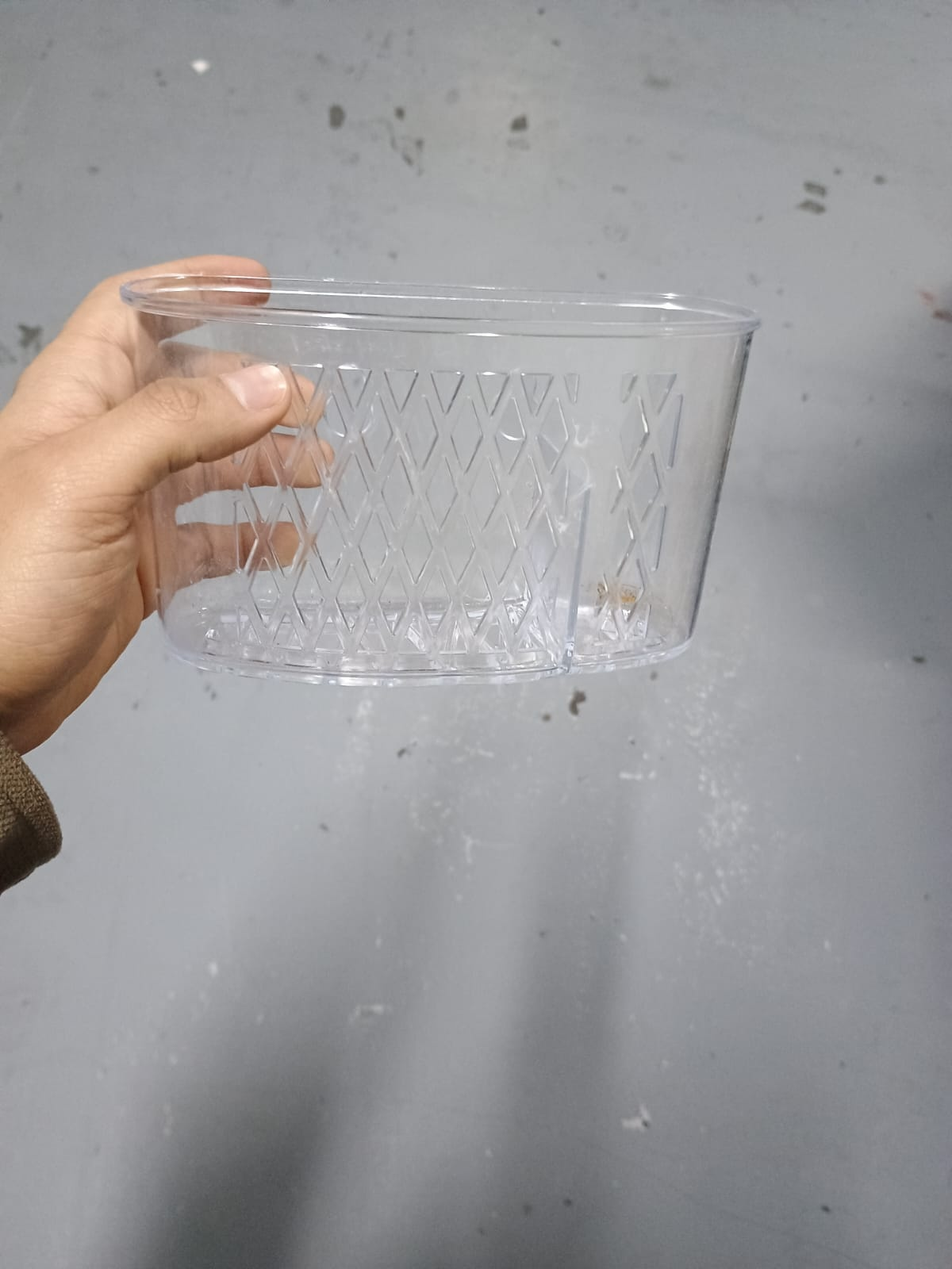Plastico: (115, 278, 763, 688)
